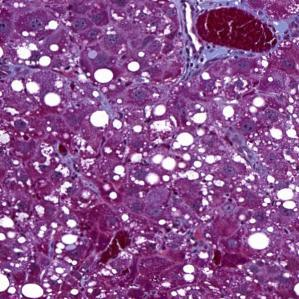fibrosis: (179, 12, 245, 65)
